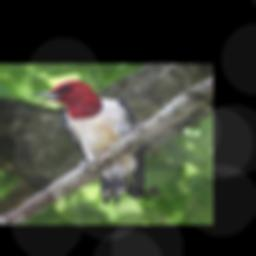Woodpecker: (26, 80, 151, 207)
